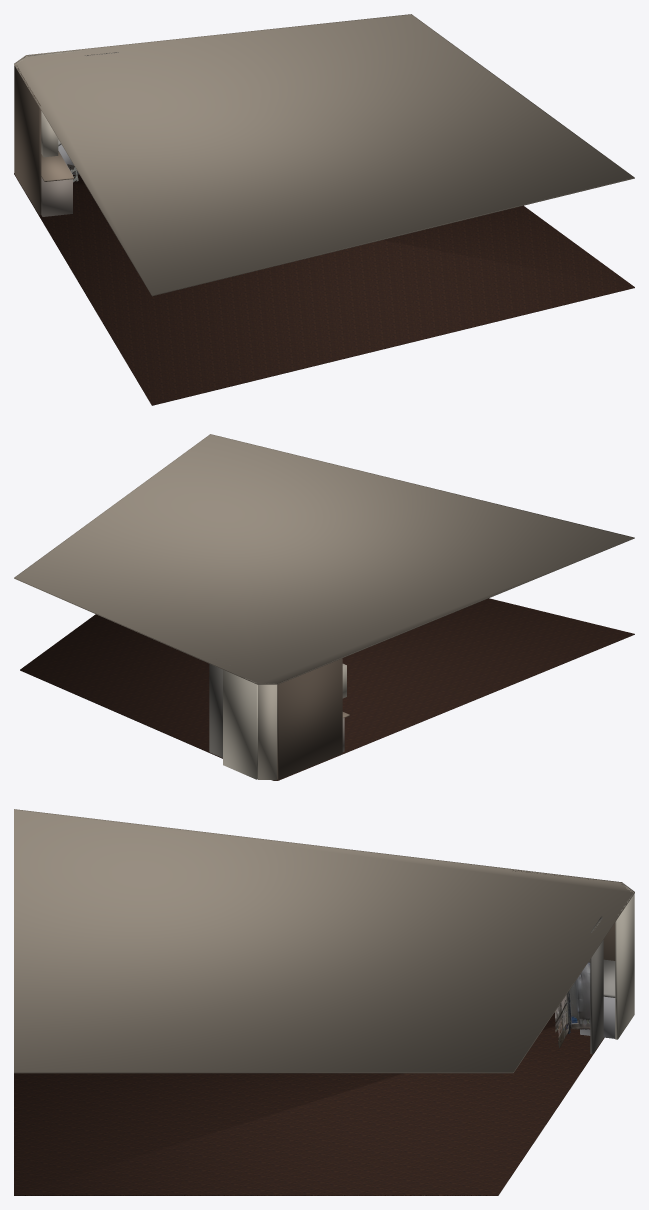
The picture shows the model from 3 angles, top to bottom: view 1: azimuth 30°, elevation 25°; view 2: azimuth 150°, elevation 25°; view 3: azimuth 270°, elevation 25°; orthographic projection. The views are drawn at different scales.
Parts seen in each view (by area): view 1: Geom.001, Geom, Wall.001, Geom.006, Geom.004, Geom.002; view 2: Geom.001, Geom, Wall.001, Wall, Wall.003, Wall.002; view 3: Geom.001, Geom, Wall, refrigerator, Wall.002, Geom.007.
Part boxes in pixels (bbox=[...]): Geom.001: bbox=[14, 14, 634, 296]; Geom: bbox=[14, 173, 634, 405]; Wall.001: bbox=[14, 65, 41, 214]; Geom.006: bbox=[41, 151, 72, 216]; Geom.004: bbox=[41, 152, 73, 181]; Geom.002: bbox=[41, 111, 58, 157]; Geom.001: bbox=[14, 434, 634, 684]; Geom: bbox=[20, 598, 634, 780]; Wall.001: bbox=[277, 658, 342, 779]; Wall: bbox=[223, 670, 257, 779]; Wall.003: bbox=[258, 683, 277, 780]; Wall.002: bbox=[209, 664, 222, 757]; Geom.001: bbox=[14, 809, 634, 1073]; Geom: bbox=[14, 1013, 604, 1195]; Wall: bbox=[615, 893, 634, 1039]; refrigerator: bbox=[555, 962, 590, 1047]; Wall.002: bbox=[590, 916, 603, 1054]; Geom.007: bbox=[580, 996, 615, 1038].
Bounding box in the file's own units: 11.64 × 2.54 × 11.6.
15 materials, 3 textured.
